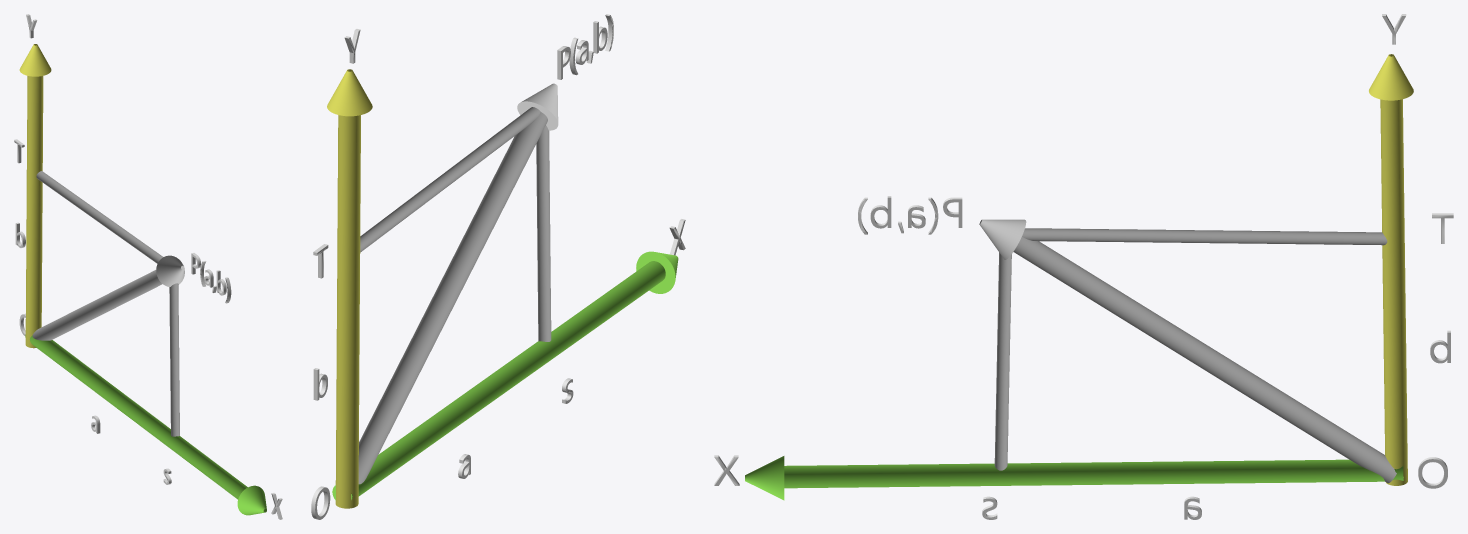
3 renders of one model, left to right at view 1: azimuth 30°, elevation 25°; view 2: azimuth 150°, elevation 25°; view 3: azimuth 270°, elevation 25°, orthographic. The views are drawn at different scales.
Parts seen in each view (by area): view 1: Cylinder.015, Cylinder.016, Cylinder.014, Cylinder.013, Cylinder.012, Cone.011, Cone.009, Cone.010; view 2: Cylinder.015, Cylinder.014, Cylinder.016, Cylinder.012, Cylinder.013, Cone.010, Cone.009, Cone.011; view 3: Cylinder.016, Cylinder.014, Cylinder.015, Cylinder.012, Cylinder.013, Cone.010, Cone.009, Cone.011.
Boxes of the visible parts, left/top/right/bottom form: Cylinder.015: left=25, top=76, right=43, bottom=348; Cylinder.016: left=25, top=335, right=247, bottom=499; Cylinder.014: left=32, top=270, right=162, bottom=340; Cylinder.013: left=169, top=283, right=179, bottom=436; Cylinder.012: left=36, top=171, right=163, bottom=263; Cone.011: left=237, top=485, right=266, bottom=515; Cone.009: left=156, top=255, right=184, bottom=286; Cone.010: left=19, top=44, right=51, bottom=76; Cylinder.015: left=335, top=115, right=360, bottom=508; Cylinder.014: left=358, top=112, right=547, bottom=484; Cylinder.016: left=332, top=261, right=665, bottom=500; Cylinder.012: left=360, top=107, right=540, bottom=252; Cylinder.013: left=536, top=125, right=551, bottom=341; Cone.010: left=327, top=69, right=372, bottom=116; Cone.009: left=517, top=83, right=558, bottom=130; Cone.011: left=636, top=251, right=678, bottom=293; Cylinder.016: left=784, top=459, right=1403, bottom=488; Cylinder.014: left=1013, top=237, right=1396, bottom=483; Cylinder.015: left=1380, top=99, right=1407, bottom=485; Cylinder.012: left=1022, top=228, right=1387, bottom=245; Cylinder.013: left=994, top=252, right=1011, bottom=470; Cone.010: left=1369, top=54, right=1413, bottom=100; Cone.009: left=979, top=219, right=1026, bottom=259; Cone.011: left=745, top=456, right=784, bottom=500.
Size of the model in its own units: 0.0213 by 0.2492 by 0.3281.
